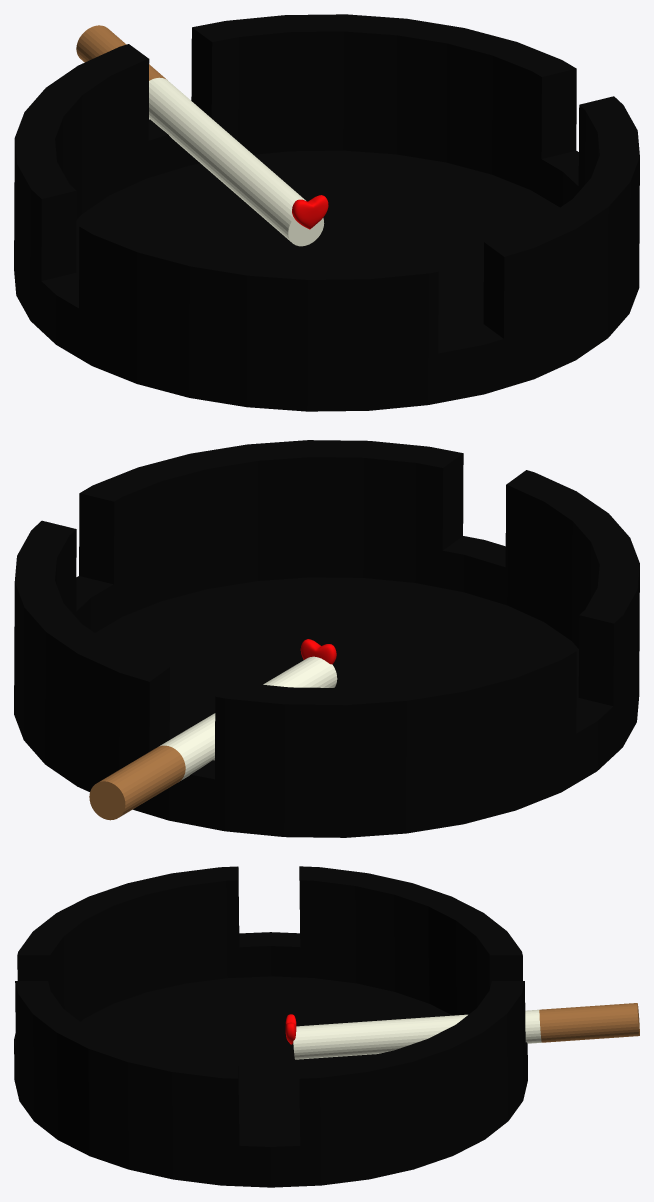
The model's file is ashtray3.glb.
3 renders of one model, top to bottom at view 1: azimuth 30°, elevation 25°; view 2: azimuth 150°, elevation 25°; view 3: azimuth 270°, elevation 25°, orthographic. The views are drawn at different scales.
Visible parts, largest first — view 1: Cylinder, Cube; view 2: Cylinder, Cube; view 3: Cylinder.
Boxes of the visible parts, bbox=[...] form: Cylinder: bbox=[14, 14, 639, 411]; Cube: bbox=[292, 195, 328, 229]; Cylinder: bbox=[14, 440, 639, 837]; Cube: bbox=[300, 639, 336, 664]; Cylinder: bbox=[14, 866, 639, 1187].
Bounding box in the file's own units: 0.3914 × 0.0916 × 0.4818.
